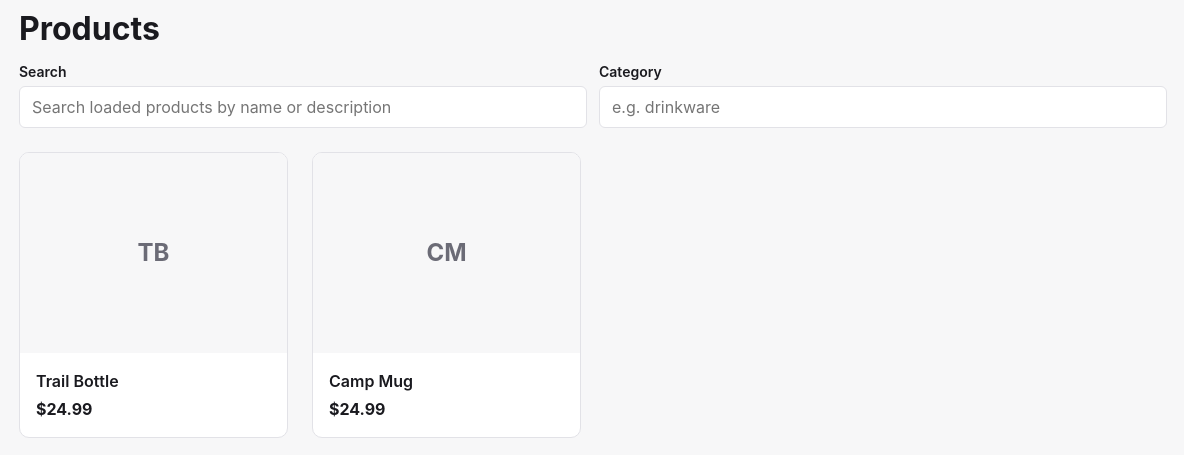
Test: ProductsPage › filters the currently loaded page client-side by search term
Expected: the text "Trail Bottle" is shown, [36,371,119,391]
Expected: the text "Camp Mug" is shown, [329,371,413,391]
Type "mug" into the search field labelled "Search" at (303, 107), box [19,86,587,128]
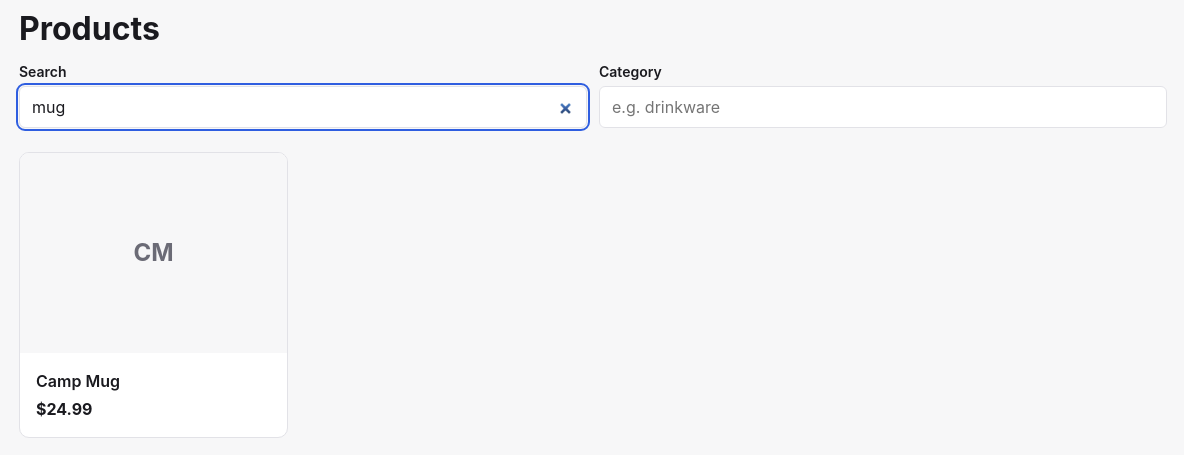
Expected: the text "Camp Mug" is shown, [36,371,120,391]
Expected: the link "Trail Bottle" is gone
